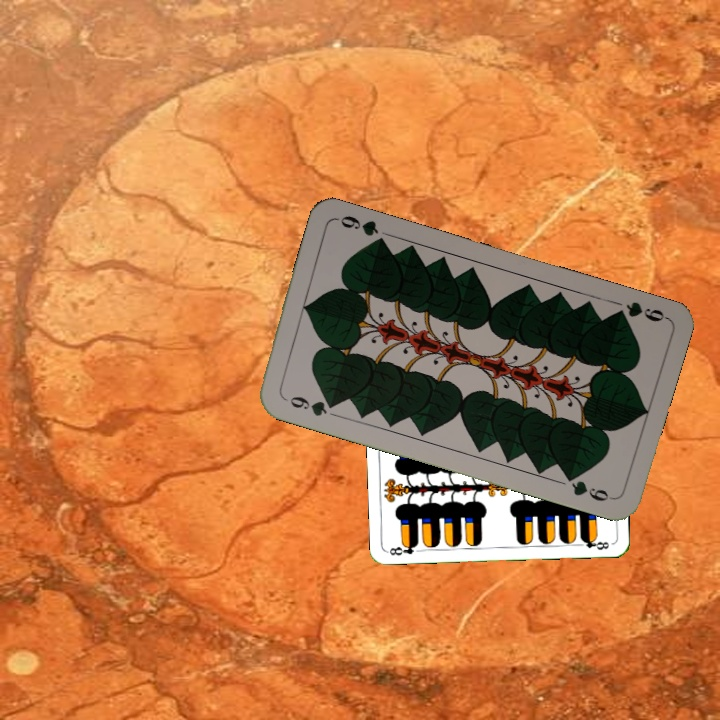E8: (385, 539, 421, 558)
G9: (608, 297, 669, 325), (285, 392, 340, 419)
